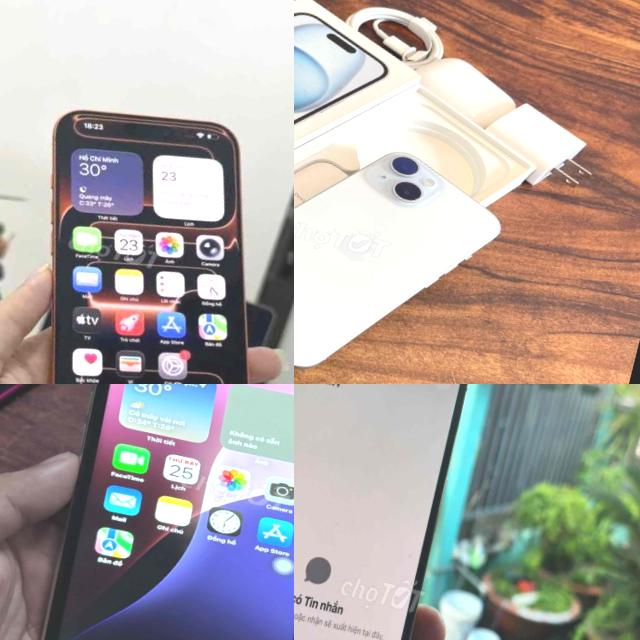gen_12_13: (294, 106, 525, 384), (294, 384, 495, 640)
gen_17: (0, 83, 294, 384)
gen_x_xs: (3, 384, 294, 640)
